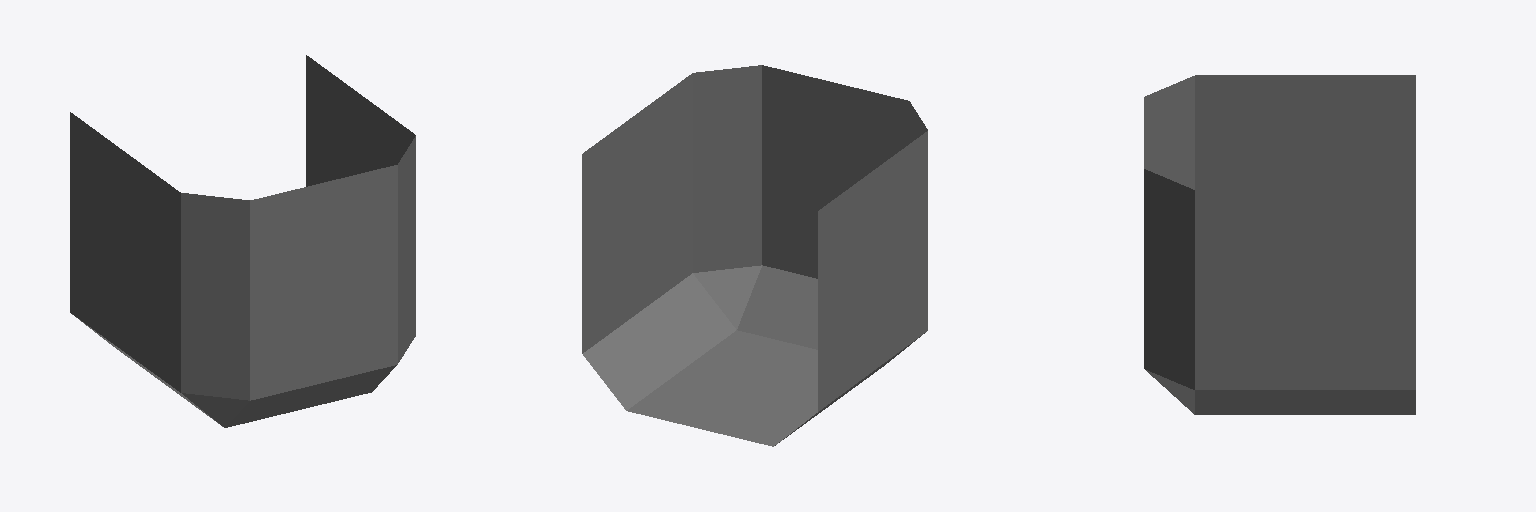
File: end.obj
3 renders of one model, left to right at view 1: azimuth 30°, elevation 25°; view 2: azimuth 150°, elevation 25°; view 3: azimuth 270°, elevation 25°, orthographic.
Bounding box in the file's own units: 1 × 1 × 1.